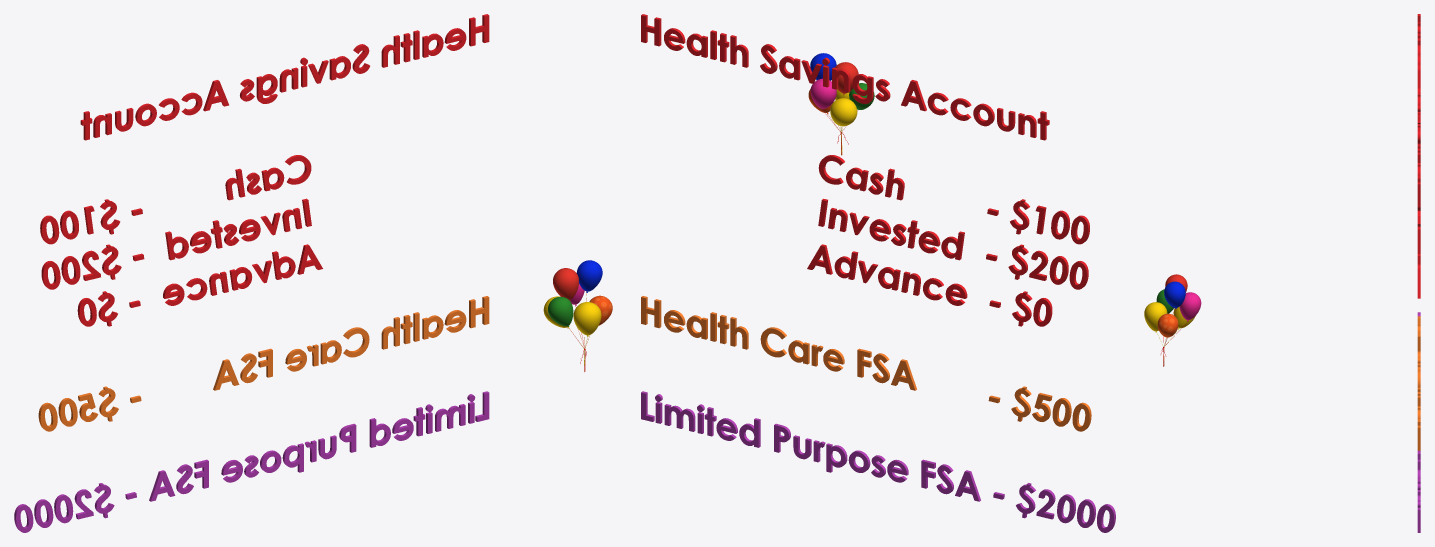
File: fourteen.fbx
3 views of the same model, side by side, from view 1: azimuth 30°, elevation 25°; view 2: azimuth 150°, elevation 25°; view 3: azimuth 270°, elevation 25° (orthographic). The views are drawn at different scales.
Parts seen in each view (by area): view 1: node_id42 (×8), node_id168; view 2: node_id42 (×8), node_id168; view 3: node_id168, node_id42 (×2).
Part boxes in pixels (bbox=[...]): node_id42 (×8): bbox=[14, 14, 489, 532]; node_id168: bbox=[543, 260, 612, 371]; node_id42 (×8): bbox=[641, 14, 1115, 532]; node_id168: bbox=[808, 53, 874, 155]; node_id168: bbox=[1144, 274, 1201, 366]; node_id42 (×2): bbox=[1417, 14, 1420, 450].
Bounding box in the file's own units: 4.92 × 4.1 × 2.88.
9 materials, 1 textured.
